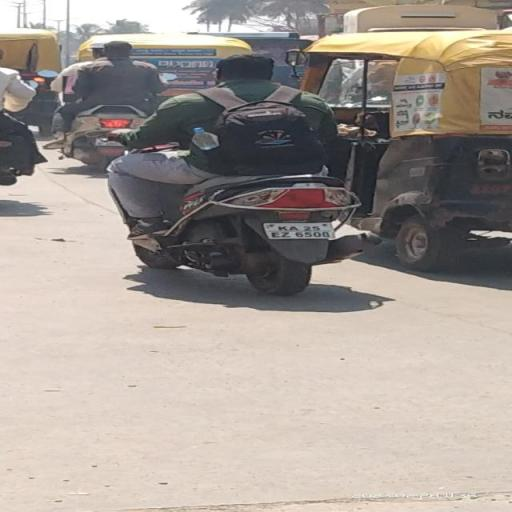bike: (92, 50, 382, 292)
numberplate: (265, 220, 340, 242)
withouthelmet: (216, 55, 276, 81)
